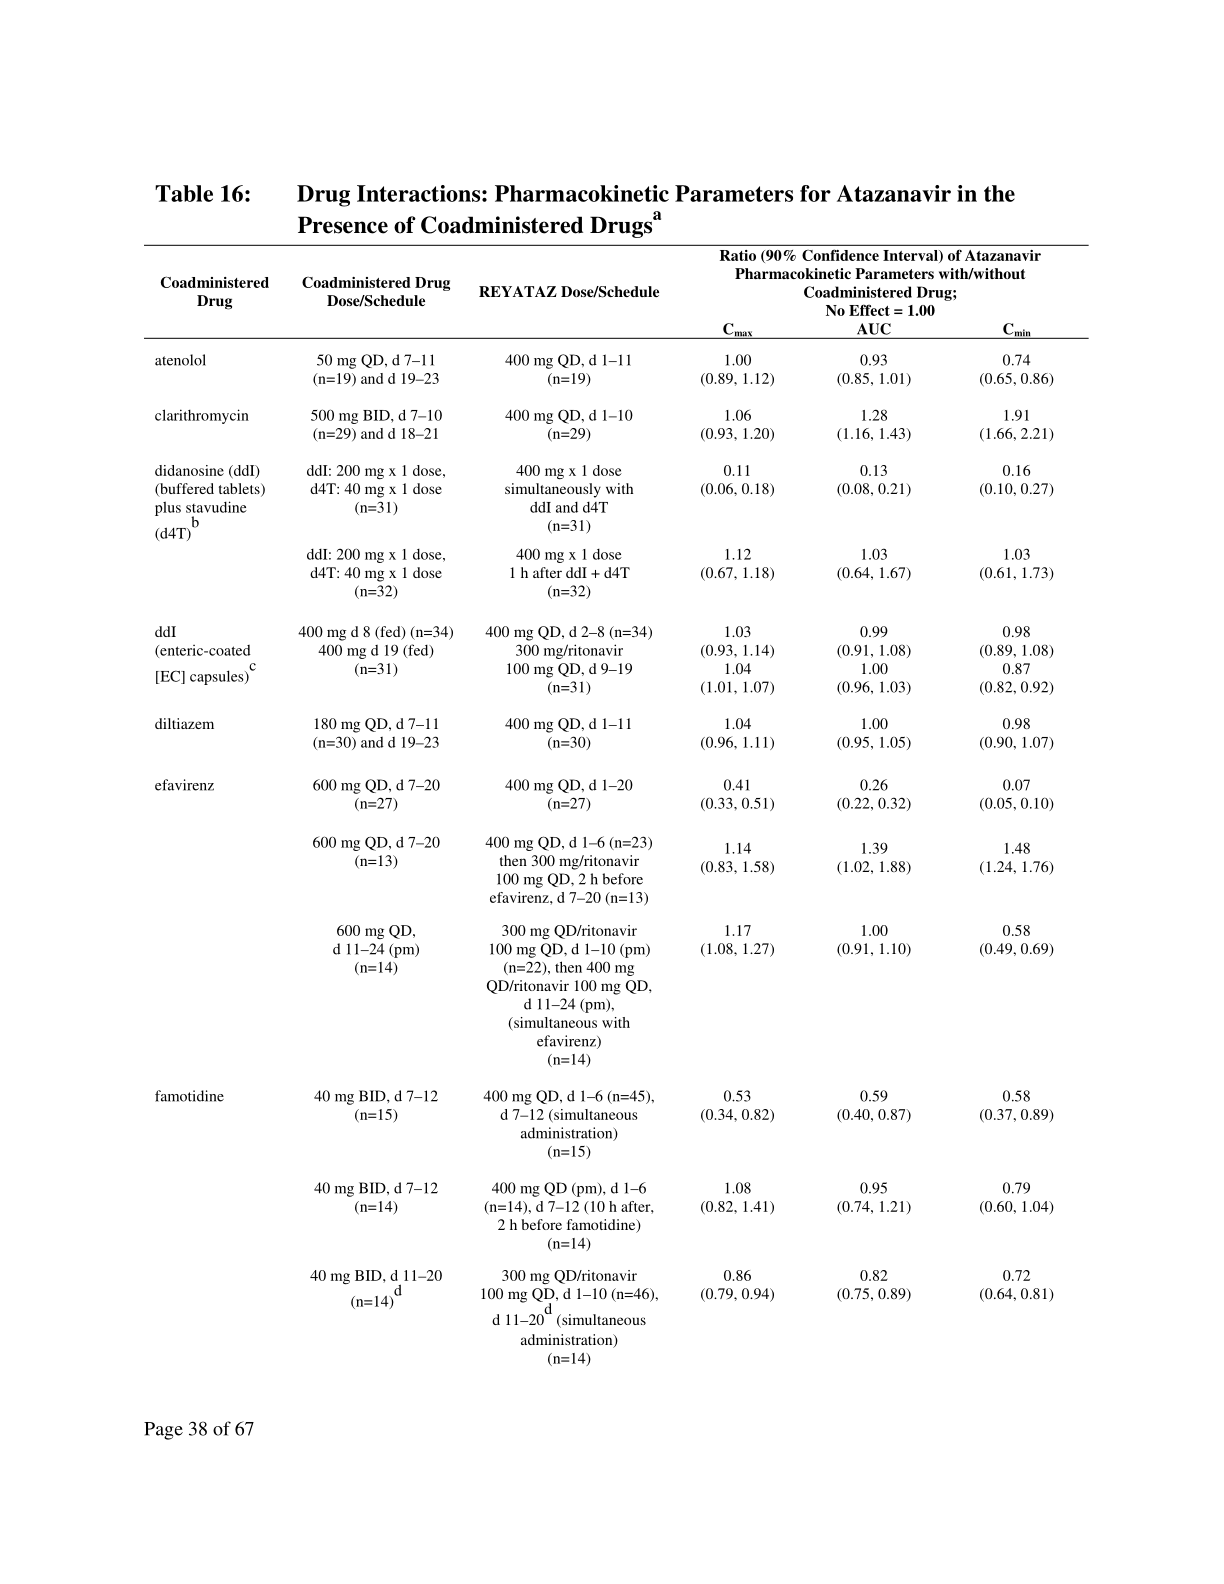partial_lined_merged_cells: (147, 240, 1088, 1368)
